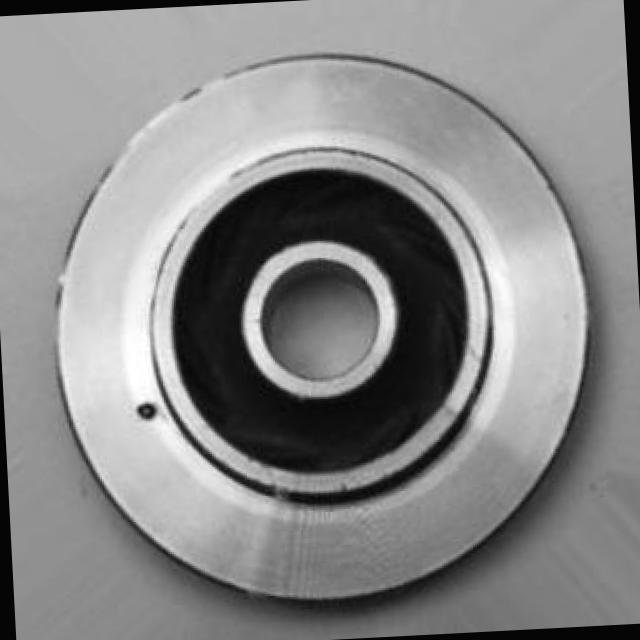Defect: (131, 399, 168, 423)
